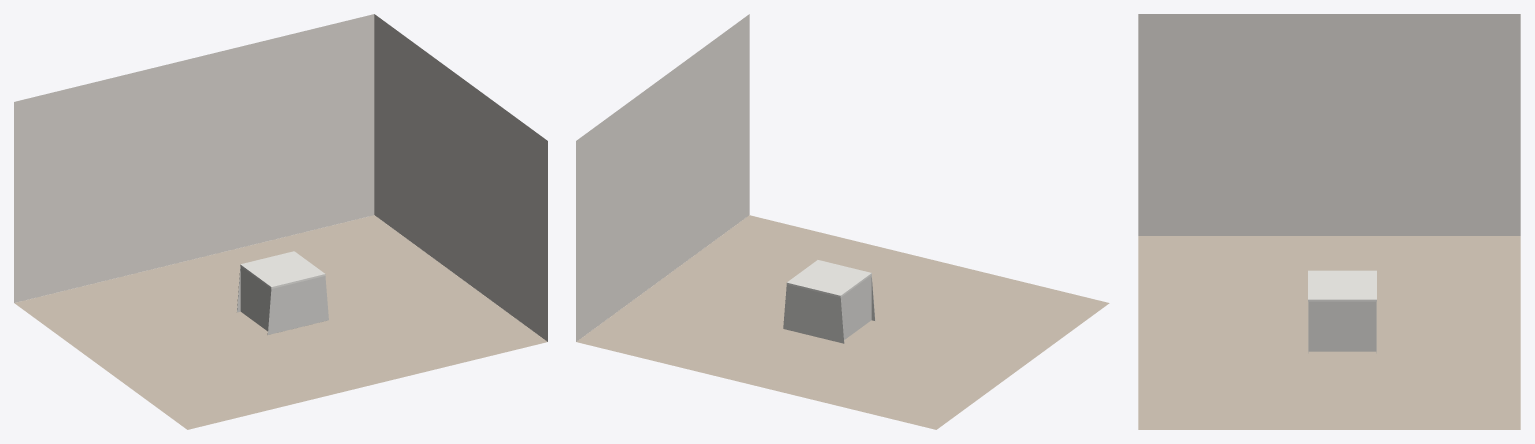
File: mesa-cuadrada.glb
3 views of the same model, side by side, from view 1: azimuth 30°, elevation 25°; view 2: azimuth 150°, elevation 25°; view 3: azimuth 270°, elevation 25° (orthographic). The views are drawn at different scales.
Parts seen in each view (by area): view 1: sala, decoracion; view 2: sala, decoracion; view 3: sala, decoracion.
Boxes of the visible parts, x1=… form: sala: x1=14, y1=14, x2=547, y2=429; decoracion: x1=237, y1=251, x2=328, y2=334; sala: x1=576, y1=14, x2=1109, y2=429; decoracion: x1=783, y1=260, x2=875, y2=343; sala: x1=1138, y1=14, x2=1520, y2=429; decoracion: x1=1308, y1=270, x2=1376, y2=353.
Size of the model in its own units: 6 by 3.2 by 5.
